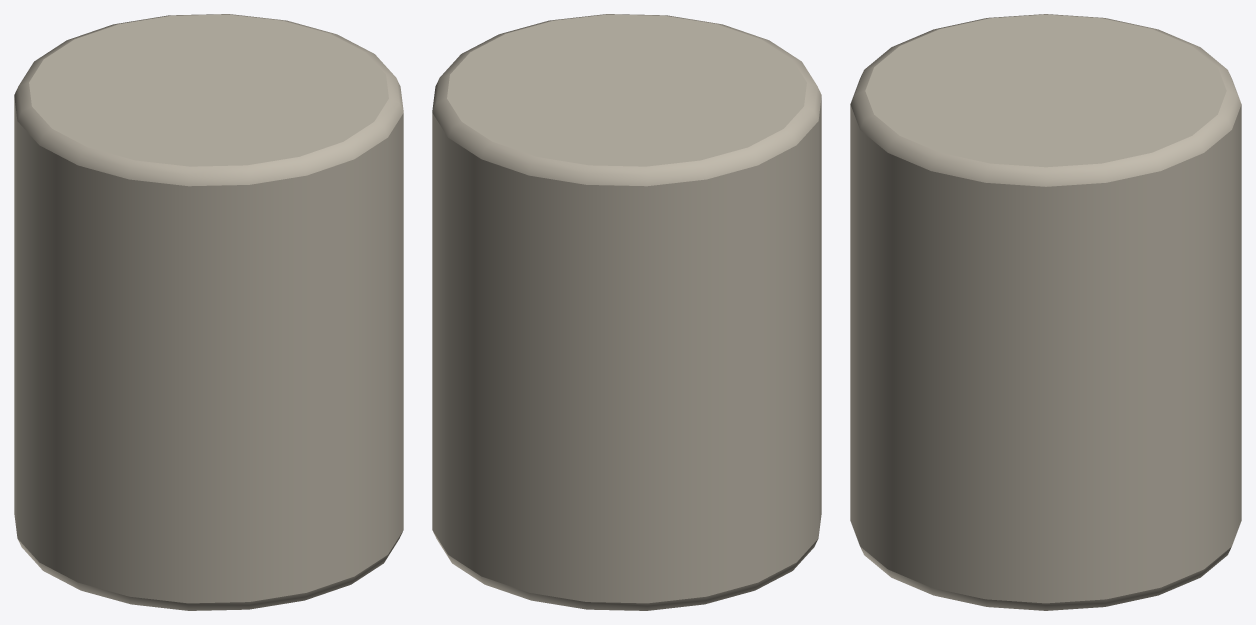
Rendered from SM_F_Mug.fbx.
3 views of the same model, side by side, from view 1: azimuth 30°, elevation 25°; view 2: azimuth 150°, elevation 25°; view 3: azimuth 270°, elevation 25° (orthographic).
Visible parts, largest first — view 1: SM_F_Mug__Body; view 2: SM_F_Mug__Body; view 3: SM_F_Mug__Body.
Boxes of the visible parts, box(x1,y1,x2,y2) form: SM_F_Mug__Body: box(14, 14, 403, 610); SM_F_Mug__Body: box(432, 14, 821, 610); SM_F_Mug__Body: box(850, 14, 1241, 610).
Size of the model in its own units: 0.08 by 0.1 by 0.08.
